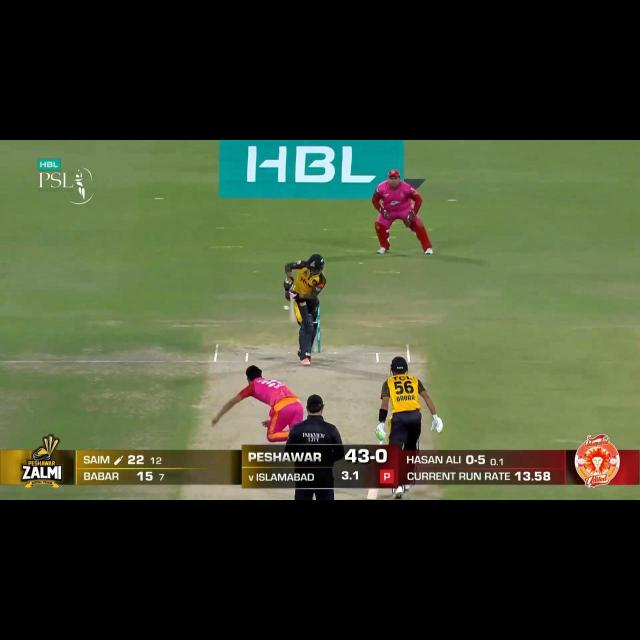bat: (286, 297, 298, 324), (366, 487, 380, 501)
toe: (365, 493, 380, 501), (286, 318, 300, 326)
